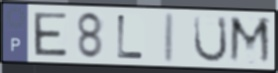8: (75, 10, 106, 61)
E: (31, 11, 69, 58)
I: (161, 11, 177, 65)
L: (115, 13, 146, 61)
M: (227, 14, 274, 67)
U: (192, 14, 230, 65)
